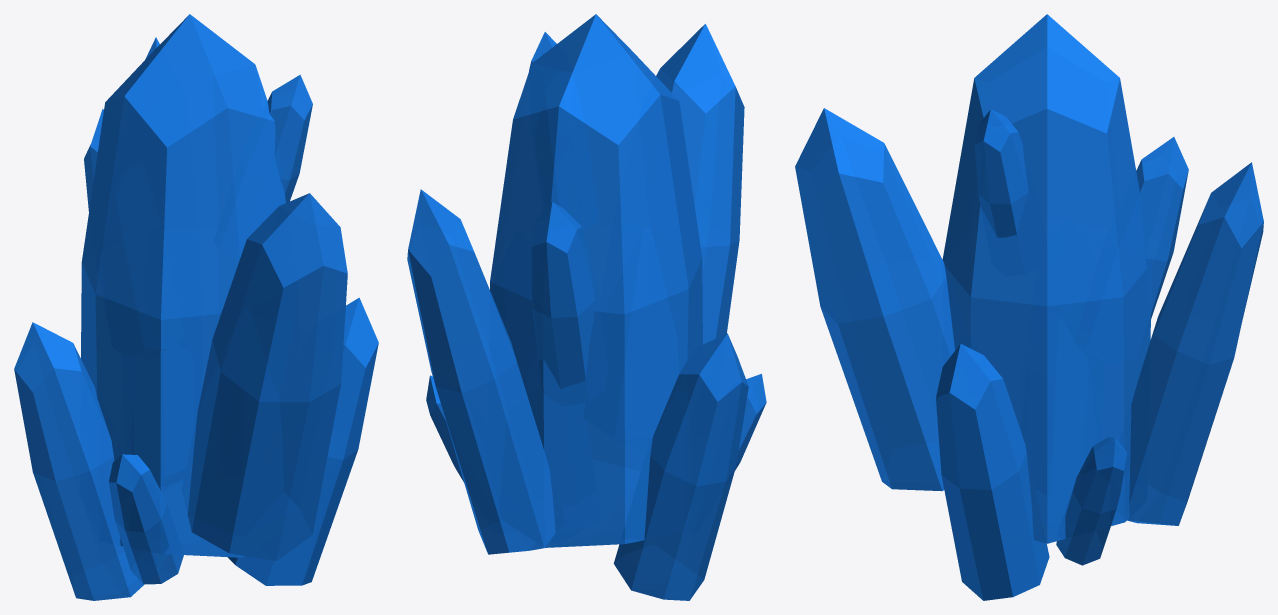
File: crystal.fbx
The picture shows the model from 3 angles, left to right: view 1: azimuth 30°, elevation 25°; view 2: azimuth 150°, elevation 25°; view 3: azimuth 270°, elevation 25°; orthographic projection. The views are drawn at different scales.
Parts seen in each view (by area): view 1: Cube.005; view 2: Cube.005; view 3: Cube.005.
Boxes of the visible parts, box(x1,y1,x2,y2) form: Cube.005: box(14, 14, 378, 600); Cube.005: box(407, 14, 766, 600); Cube.005: box(795, 14, 1263, 600).
Size of the model in its own units: 137 by 243 by 189.
